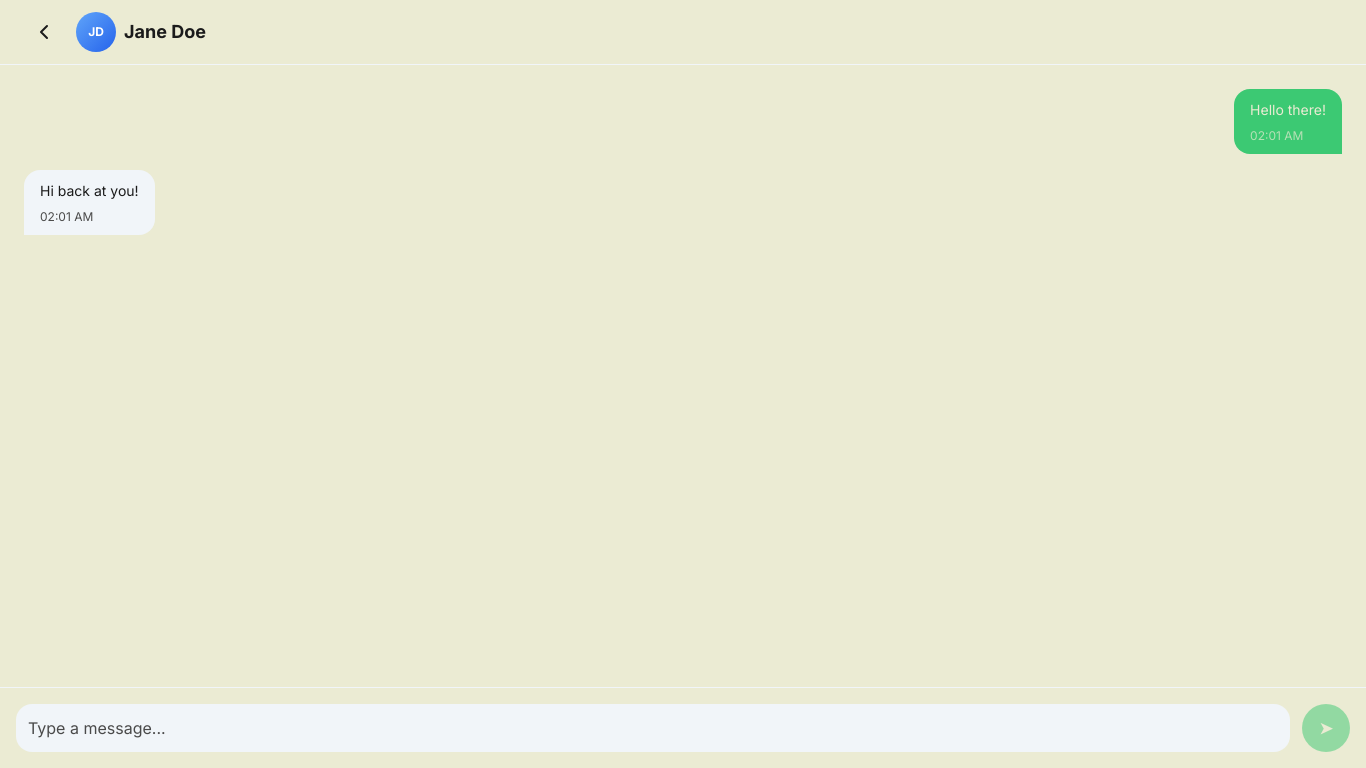
Scenario: MessagesPage › profile modal › closes profile modal when Close button is clicked
This screenshot has width=1366, height=768.
Expected: the heading "Jane Doe" is shown, [124, 18, 206, 46]
Click the 2nd button at (96, 32), box [76, 12, 116, 52]
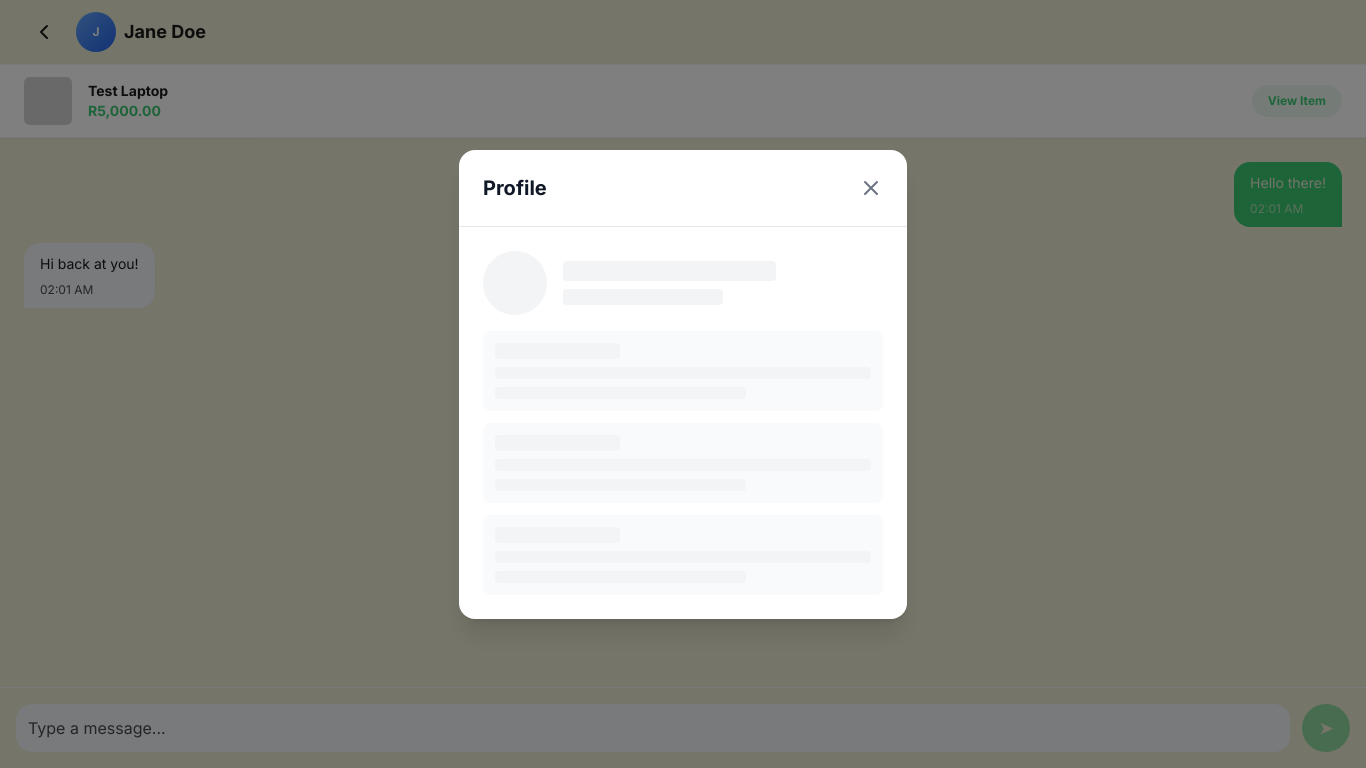
Result: the heading "Profile" is shown at [483, 174, 547, 202]
Click the button named "close" at (871, 188), box [859, 176, 883, 200]
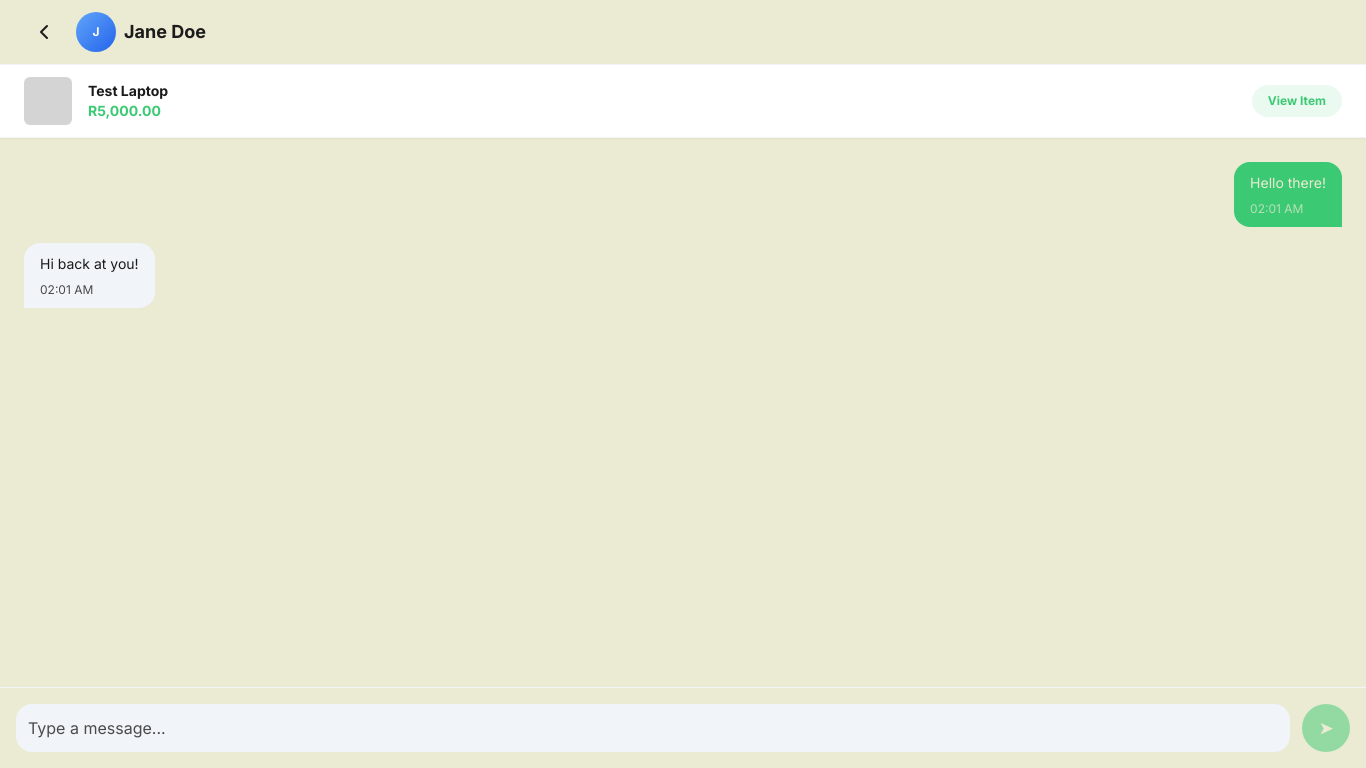
Result: the heading "Profile" is gone
